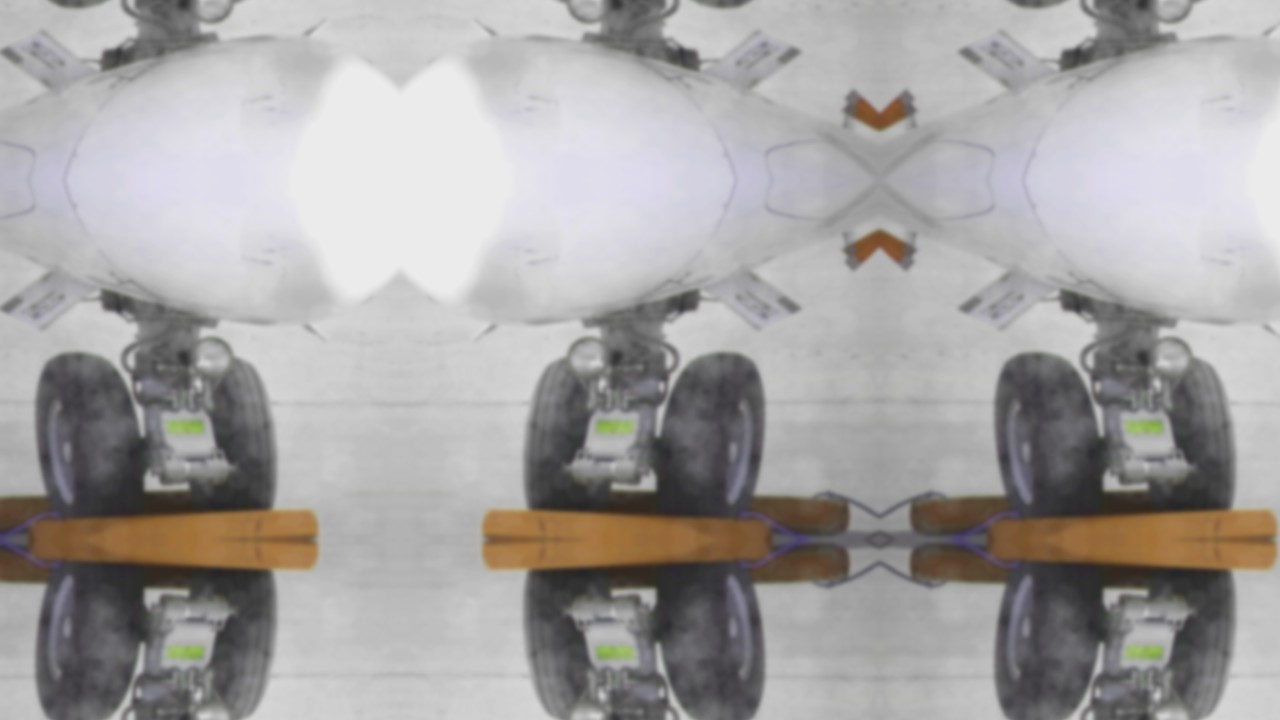chock: (584, 485, 857, 536), (903, 485, 1176, 536), (584, 544, 857, 595), (903, 544, 1176, 595), (0, 485, 216, 536), (0, 544, 216, 595), (19, 504, 322, 540), (478, 504, 781, 540), (19, 540, 322, 576), (478, 540, 781, 576), (979, 504, 1280, 540), (979, 540, 1280, 576)
wheel: (25, 348, 148, 521), (652, 348, 775, 521), (985, 348, 1108, 521), (25, 559, 148, 720), (652, 559, 775, 720), (985, 559, 1108, 720), (187, 351, 278, 513), (522, 351, 613, 513), (1147, 351, 1238, 513), (187, 567, 278, 720), (522, 567, 613, 720), (1147, 567, 1238, 720)
